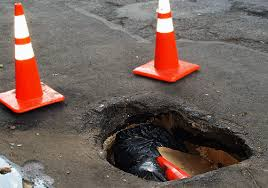pothole: (87, 94, 260, 183), (177, 3, 268, 52), (3, 119, 54, 188), (90, 1, 153, 41)
